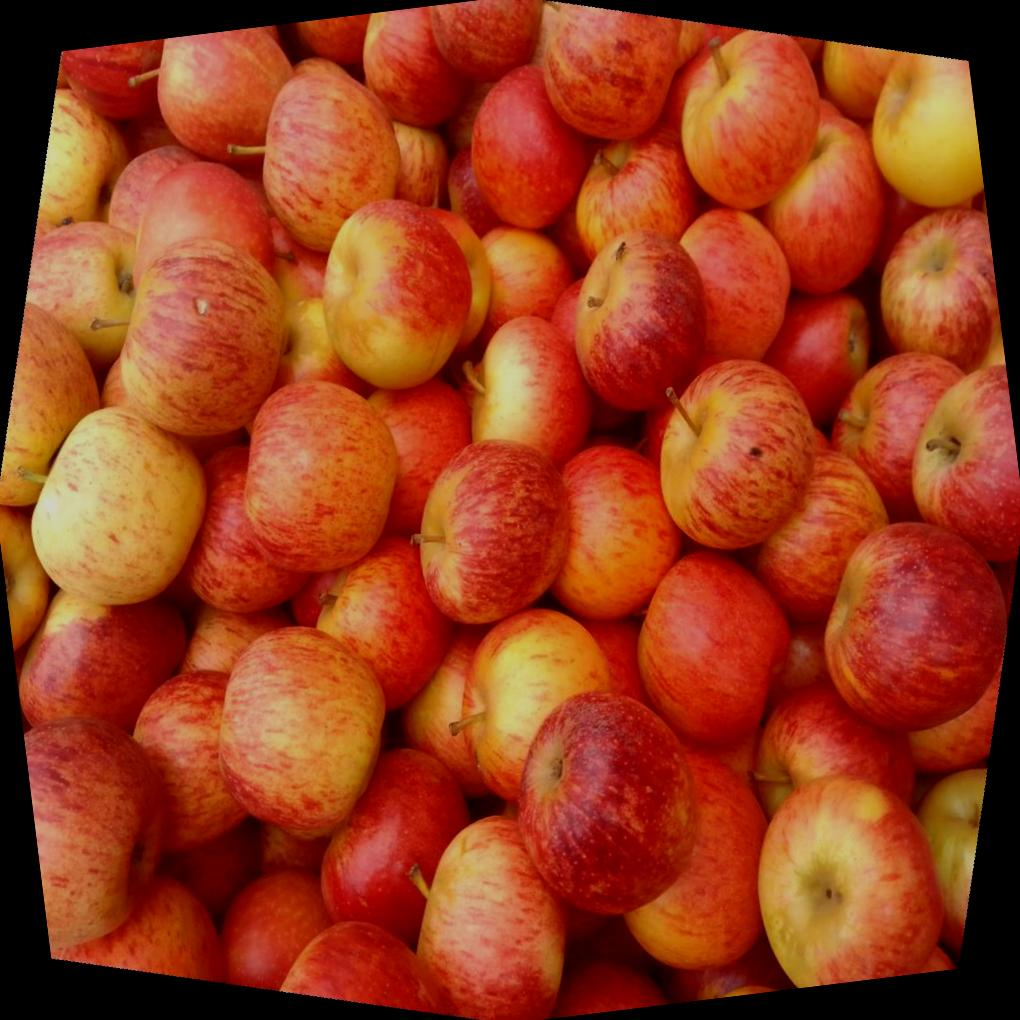FreshGuava: (0, 0, 1020, 1018)
